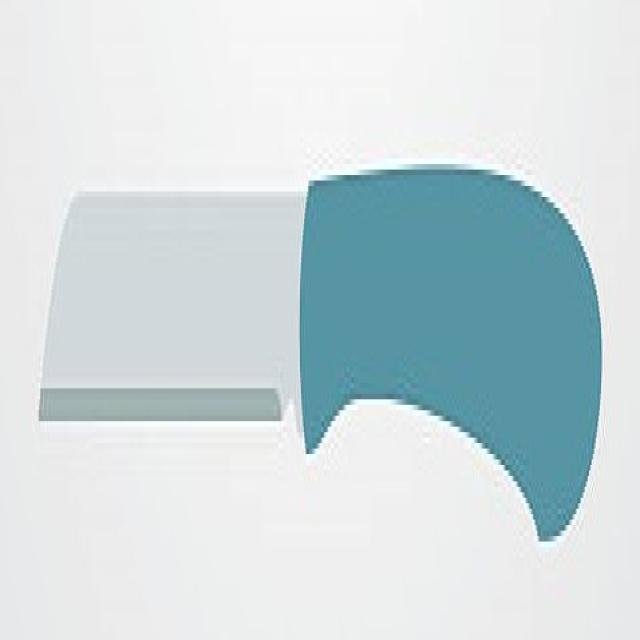knife: (36, 157, 606, 556)
